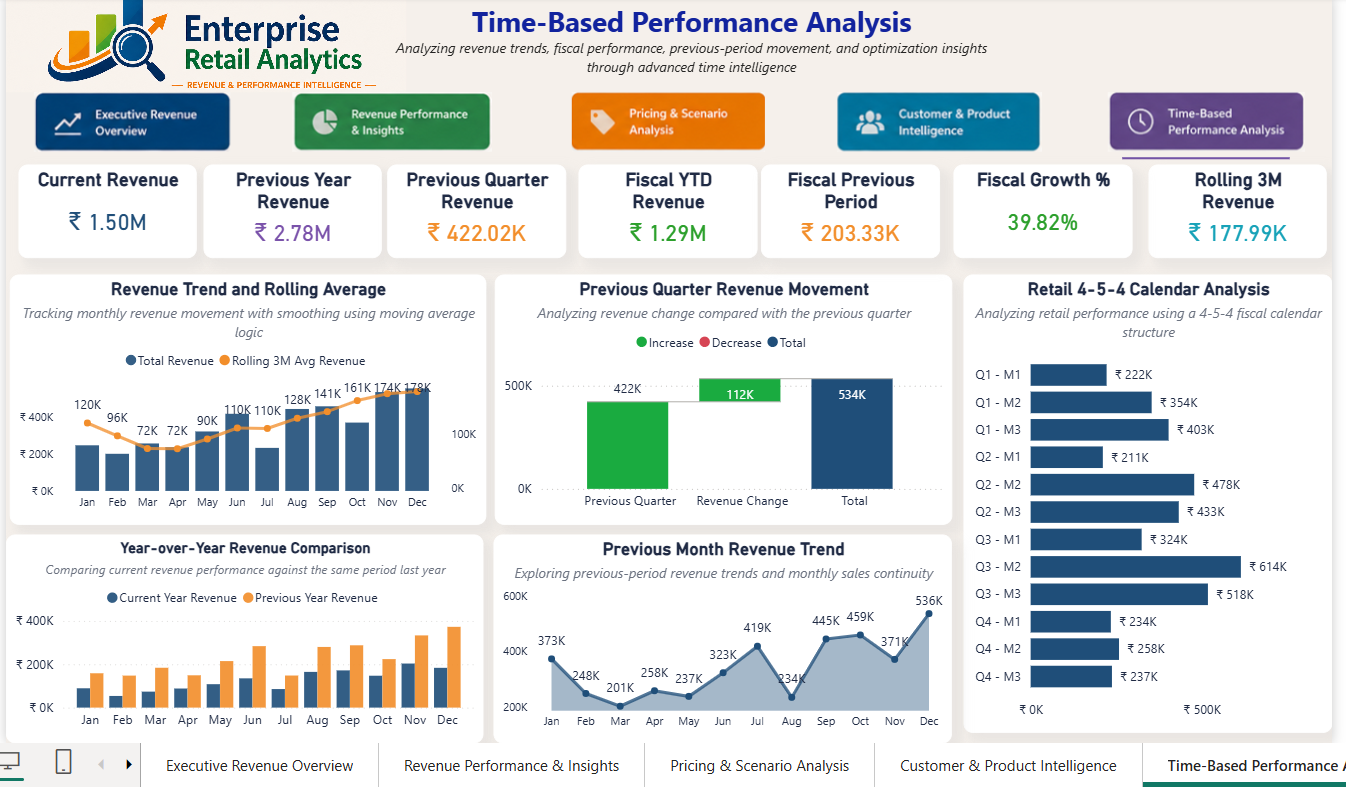

Layout of this report page (visuals, bound fields, positions):
{"tool":"powerbi","page":{"name":"Time-Based Performance Analysis","canvas":[1280,720],"ordinal":4},"visuals":[{"type":"image","box":[0,0,386.1,91.7],"z":0},{"type":"textbox","box":[360.7,0,602,91.7],"z":1000},{"type":"image","box":[22.9,91.7,197.9,57.9],"z":2000},{"type":"image","box":[273.9,91.7,197.9,57.9],"z":3000},{"type":"image","box":[540.5,91.7,197.9,57.9],"z":4000},{"type":"image","box":[802.3,91.7,197.9,57.9],"z":5000},{"type":"image","box":[1059.3,91.7,197.9,57.9],"z":6000},{"type":"shape","box":[1077.4,149.6,161.7,12.1],"z":7000},{"type":"card","title":"Current Revenue","fields":{"Values":["All Measures Table.Current Year Revenue"]},"box":[12.1,161.7,172,90.5],"z":7001},{"type":"card","title":"Previous Year Revenue","fields":{"Values":["All Measures Table.Previous Year Revenue"]},"box":[190.6,161.7,172,90.5],"z":7002},{"type":"card","title":"Previous Quarter Revenue","fields":{"Values":["All Measures Table.Previous Quarter Revenue"]},"box":[368,161.7,172.5,90.5],"z":7003},{"type":"card","title":"Fiscal YTD Revenue","fields":{"Values":["All Measures Table.Fiscal YTD Revenue"]},"box":[552.5,161.7,172.5,90.5],"z":7004},{"type":"card","title":"Rolling 3M Revenue","fields":{"Values":["All Measures Table.Rolling 3M Revenue"]},"box":[1102.7,161.7,172,90.5],"z":7005},{"type":"lineClusteredColumnComboChart","title":"Revenue Trend and Rolling Average","fields":{"Category":["dim_date.Month"],"Y":["All Measures Table.Total Revenue"],"Y2":["All Measures Table.Rolling 3M Avg Revenue"]},"box":[3.6,267.8,459.7,241.3],"z":7006},{"type":"clusteredColumnChart","title":"Year-over-Year Revenue Comparison","fields":{"Category":["dim_date.Month"],"Y":["All Measures Table.Current Year Revenue","All Measures Table.Previous Year Revenue"]},"box":[0,518.8,460.9,201.5],"z":7007},{"type":"waterfallChart","title":"Previous Quarter Revenue Movement","fields":{"Category":["Quarter Bridge Table.Step"],"Y":["Quarter Bridge Table.Quarter Bridge Value"]},"box":[471.7,267.8,441.6,241.3],"z":7009},{"type":"card","title":"Fiscal Previous Period","fields":{"Values":["All Measures Table.Fiscal Previous Period Revenue"]},"box":[728.7,161.7,172.5,90.5],"z":7011},{"type":"card","title":"Fiscal Growth %","fields":{"Values":["All Measures Table.Fiscal Growth %"]},"box":[914.5,161.7,179.8,90.5],"z":7012},{"type":"clusteredBarChart","title":"Retail 4-5-4 Calendar Analysis","fields":{"Category":["dim_date.Retail 454 Month"],"Y":["All Measures Table.Total Revenue"]},"box":[924.1,267.8,355.9,452.4],"z":7013},{"type":"areaChart","title":"Previous Month Revenue Trend","fields":{"Category":["dim_date.Month"],"Y":["All Measures Table.Revenue Last Month"]},"box":[470.5,518.8,442.8,201.5],"z":7014},{"type":"actionButton","box":[275.1,91.7,196.6,57.9],"z":7015},{"type":"actionButton","box":[24.1,91.7,196.6,57.9],"z":7016},{"type":"actionButton","box":[540.5,91.7,196.6,57.9],"z":7017},{"type":"actionButton","box":[802.3,91.7,196.6,57.9],"z":7018}]}

Visuals, with their boxes on the page's 1280x720 design canvas (x1, y1, x2, y2). These are canvas units, not pixel positions in the 1346x787 screenshot, which may show the page scaled, cropped or inside an application window:
image: x1=0 y1=0 x2=386 y2=92
textbox: x1=361 y1=0 x2=963 y2=92
image: x1=23 y1=92 x2=221 y2=150
image: x1=274 y1=92 x2=472 y2=150
image: x1=540 y1=92 x2=738 y2=150
image: x1=802 y1=92 x2=1000 y2=150
image: x1=1059 y1=92 x2=1257 y2=150
shape: x1=1077 y1=150 x2=1239 y2=162
"Current Revenue" card: x1=12 y1=162 x2=184 y2=252
"Previous Year Revenue" card: x1=191 y1=162 x2=363 y2=252
"Previous Quarter Revenue" card: x1=368 y1=162 x2=540 y2=252
"Fiscal YTD Revenue" card: x1=552 y1=162 x2=725 y2=252
"Rolling 3M Revenue" card: x1=1103 y1=162 x2=1275 y2=252
"Revenue Trend and Rolling Average" lineClusteredColumnComboChart: x1=4 y1=268 x2=463 y2=509
"Year-over-Year Revenue Comparison" clusteredColumnChart: x1=0 y1=519 x2=461 y2=720
"Previous Quarter Revenue Movement" waterfallChart: x1=472 y1=268 x2=913 y2=509
"Fiscal Previous Period" card: x1=729 y1=162 x2=901 y2=252
"Fiscal Growth %" card: x1=914 y1=162 x2=1094 y2=252
"Retail 4-5-4 Calendar Analysis" clusteredBarChart: x1=924 y1=268 x2=1280 y2=720
"Previous Month Revenue Trend" areaChart: x1=470 y1=519 x2=913 y2=720
actionButton: x1=275 y1=92 x2=472 y2=150
actionButton: x1=24 y1=92 x2=221 y2=150
actionButton: x1=540 y1=92 x2=737 y2=150
actionButton: x1=802 y1=92 x2=999 y2=150
